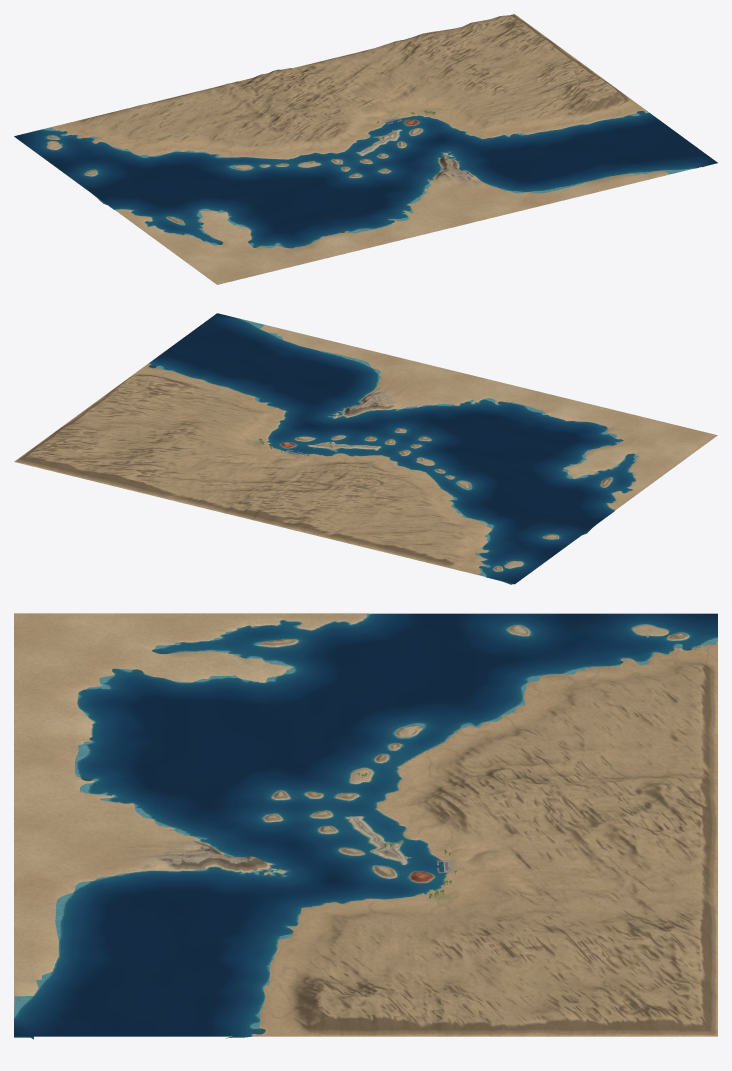
Rendered from strait-of-hormuz.glb.
The picture shows the model from 3 angles, top to bottom: view 1: azimuth 30°, elevation 25°; view 2: azimuth 150°, elevation 25°; view 3: azimuth 270°, elevation 25°; orthographic projection. The views are drawn at different scales.
Parts seen in each view (by area): view 1: Terrain_StraitOfHormuz, Ocean_PersianGulf; view 2: Terrain_StraitOfHormuz, Ocean_PersianGulf; view 3: Terrain_StraitOfHormuz, Ocean_PersianGulf.
Part boxes in pixels (bbox=[...]): Terrain_StraitOfHormuz: bbox=[15, 14, 717, 284]; Ocean_PersianGulf: bbox=[14, 112, 717, 248]; Terrain_StraitOfHormuz: bbox=[14, 322, 717, 584]; Ocean_PersianGulf: bbox=[148, 313, 638, 583]; Terrain_StraitOfHormuz: bbox=[14, 613, 717, 1039]; Ocean_PersianGulf: bbox=[14, 613, 717, 1036].
Size of the model in its own units: 658 by 31.49 by 462.
5 materials, 5 textured.
